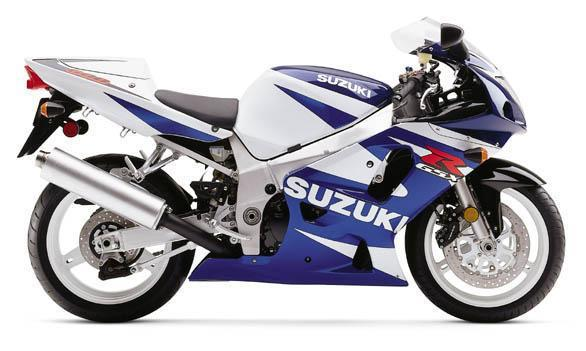motorcycle: (12, 12, 586, 340)
